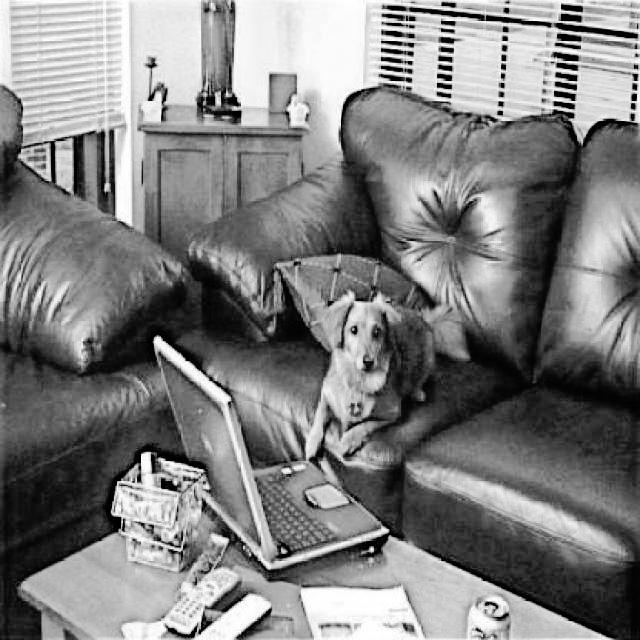Dog: (302, 282, 467, 473)
